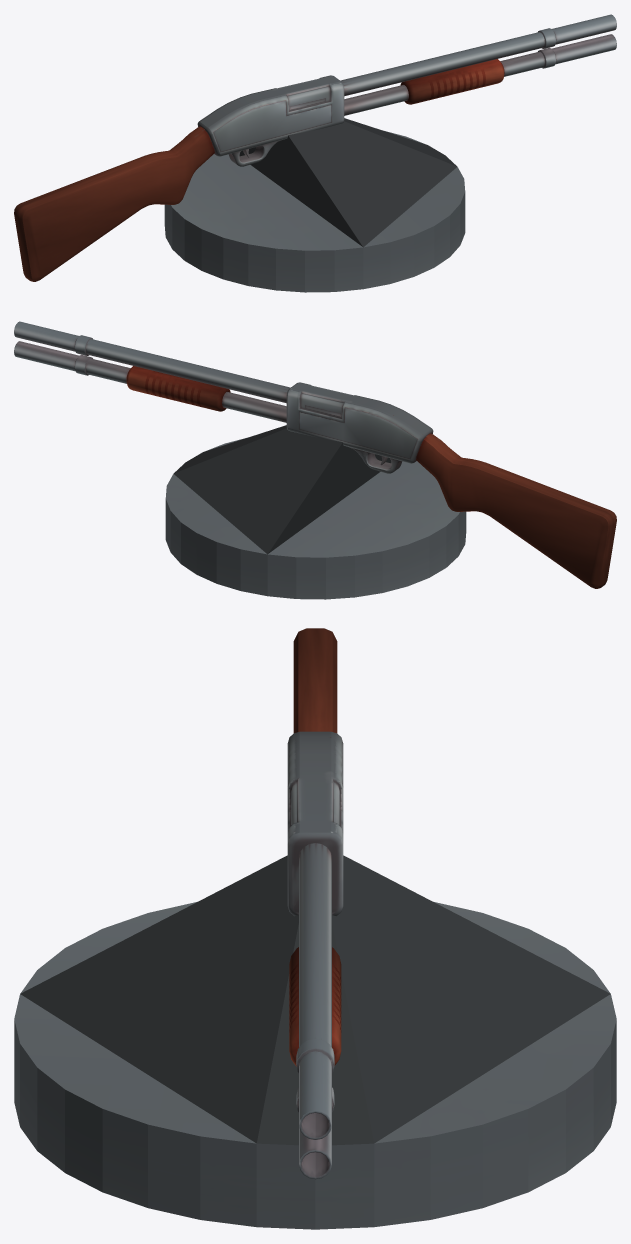
Rendered from turret.fbx.
3 renders of one model, top to bottom at view 1: azimuth 30°, elevation 25°; view 2: azimuth 150°, elevation 25°; view 3: azimuth 270°, elevation 25°, orthographic. The views are drawn at different scales.
Parts seen in each view (by area): view 1: Cylinder; view 2: Cylinder; view 3: Cylinder.
Boxes of the visible parts, x1,y1,x2,y2 form: Cylinder: (14, 14, 616, 292); Cylinder: (14, 321, 616, 599); Cylinder: (14, 628, 616, 1229).
Size of the model in its own units: 206 by 48.22 by 90.
1 material, 1 textured.
